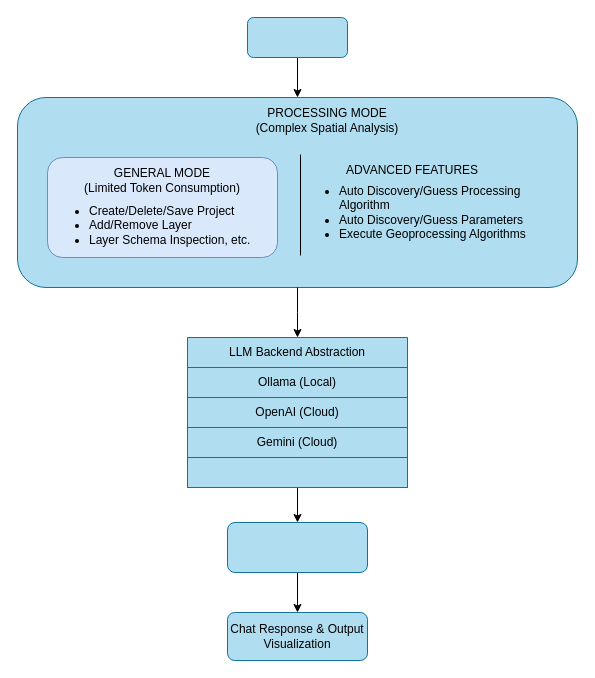
This 595x678 diagram has some shape labels left out. Each missing label, with the centre of its shape:
"Anthropic (Cloud)" belongs at (297,472).
"Geoprocessing Logic Generation & Execution" belongs at (297,547).
"User Prompt" belongs at (297,37).
